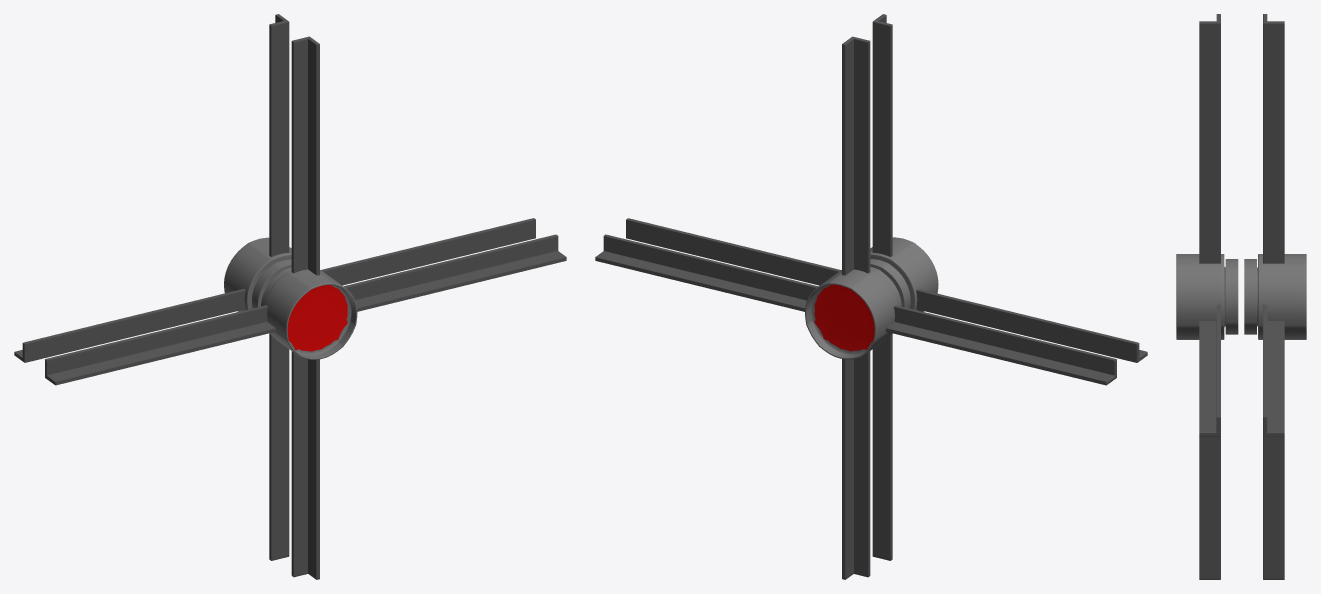
File: Fan01_Body.fbx
3 views of the same model, side by side, from view 1: azimuth 30°, elevation 25°; view 2: azimuth 150°, elevation 25°; view 3: azimuth 270°, elevation 25° (orthographic). The views are drawn at different scales.
Parts seen in each view (by area): view 1: pCube36, pCube35, pCube37, polySurface224, pCube38; view 2: pCube37, pCube38, pCube36, polySurface224, pCube35; view 3: polySurface224, pCube36, pCube37, pCube35, pCube38.
Boxes of the visible parts, x1,y1,x2,y2 form: pCube36: [291, 36, 319, 579]; pCube35: [45, 234, 566, 385]; pCube37: [269, 14, 289, 560]; polySurface224: [224, 237, 357, 359]; pCube38: [14, 218, 535, 362]; pCube37: [842, 36, 870, 579]; pCube38: [595, 234, 1116, 385]; pCube36: [872, 14, 892, 560]; polySurface224: [805, 237, 938, 359]; pCube35: [626, 218, 1147, 362]; polySurface224: [1176, 254, 1306, 339]; pCube36: [1199, 14, 1220, 579]; pCube37: [1263, 14, 1284, 579]; pCube35: [1199, 304, 1220, 436]; pCube38: [1263, 304, 1284, 436].
Size of the model in its own units: 141 by 141 by 30.
